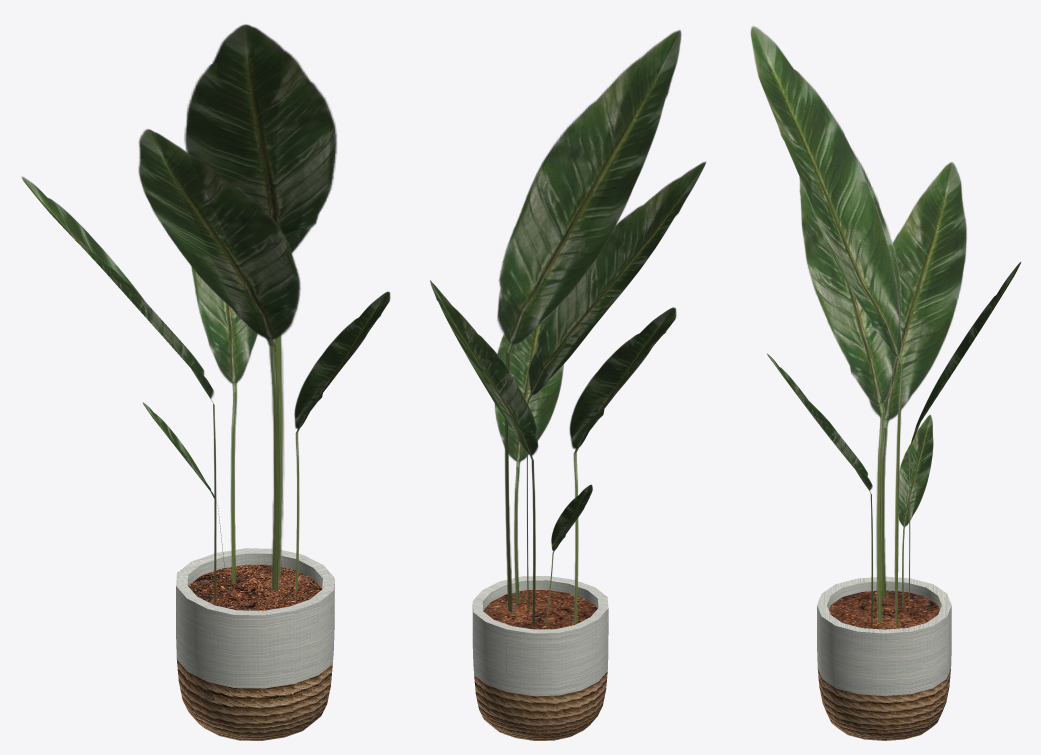
Rendered from BirdOfParadise.glb.
3 views of the same model, side by side, from view 1: azimuth 30°, elevation 25°; view 2: azimuth 150°, elevation 25°; view 3: azimuth 270°, elevation 25° (orthographic). The views are drawn at different scales.
Visible parts, largest first — view 1: Bird_of_Paradse.001, BoP_pot; view 2: Bird_of_Paradse.001, BoP_pot; view 3: Bird_of_Paradse.001, BoP_pot.
Boxes of the visible parts, x1,y1,x2,y2 form: Bird_of_Paradse.001: [21, 24, 390, 603]; BoP_pot: [176, 548, 334, 740]; Bird_of_Paradse.001: [430, 29, 705, 625]; BoP_pot: [472, 576, 608, 740]; Bird_of_Paradse.001: [750, 25, 1021, 628]; BoP_pot: [817, 576, 951, 740].
Bounding box in the file's own units: 0.776 × 2 × 0.7639.
3 materials, 3 textured.
